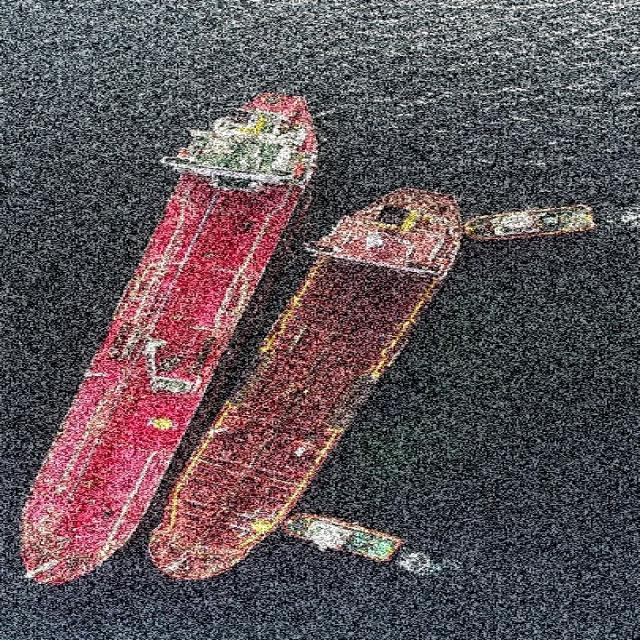ship2: (21, 93, 318, 590), (149, 188, 467, 583), (465, 198, 599, 246)
